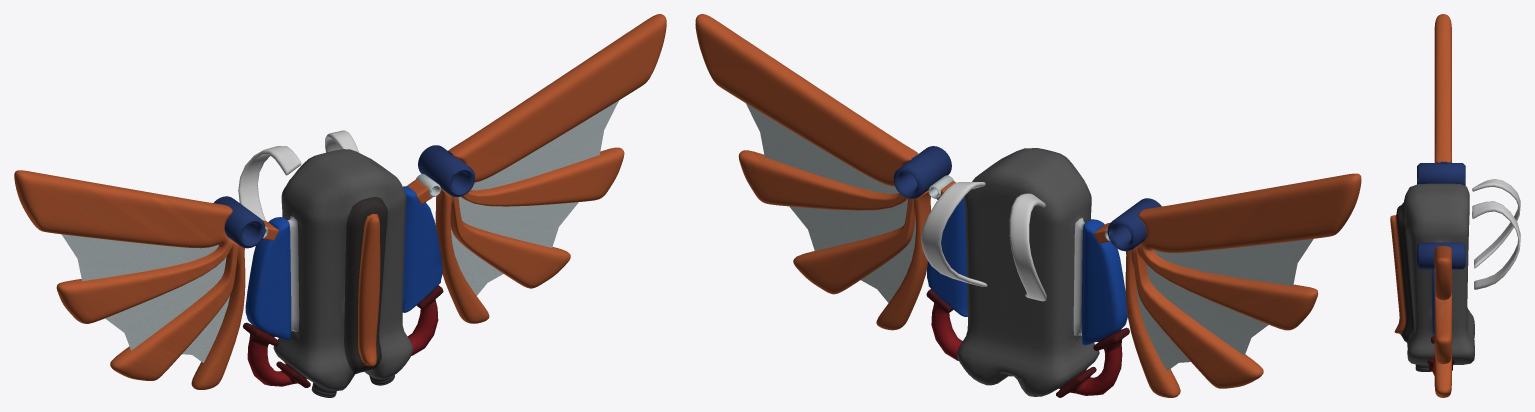
Rendered from Jetpack.fbx.
The picture shows the model from 3 angles, left to right: view 1: azimuth 30°, elevation 25°; view 2: azimuth 150°, elevation 25°; view 3: azimuth 270°, elevation 25°; orthographic projection. The views are drawn at different scales.
Visible parts, largest first — view 1: Cylinder.004, Jetpack 2, Plane.003; view 2: Cylinder.004, Jetpack 2, Plane.003; view 3: Jetpack 2, Cylinder.004, Plane.003.
Part boxes in pixels (left/top/right/bottom): Cylinder.004: left=14, top=14, right=666, bottom=389; Jetpack 2: left=243, top=149, right=443, bottom=390; Plane.003: left=238, top=130, right=359, bottom=220; Cylinder.004: left=695, top=14, right=1361, bottom=397; Jetpack 2: left=926, top=148, right=1129, bottom=397; Plane.003: left=921, top=182, right=1046, bottom=301; Jetpack 2: left=1390, top=183, right=1474, bottom=375; Cylinder.004: left=1417, top=14, right=1465, bottom=397; Plane.003: left=1472, top=179, right=1520, bottom=289.
Bounding box in the file's own units: 853 × 362 × 191.
